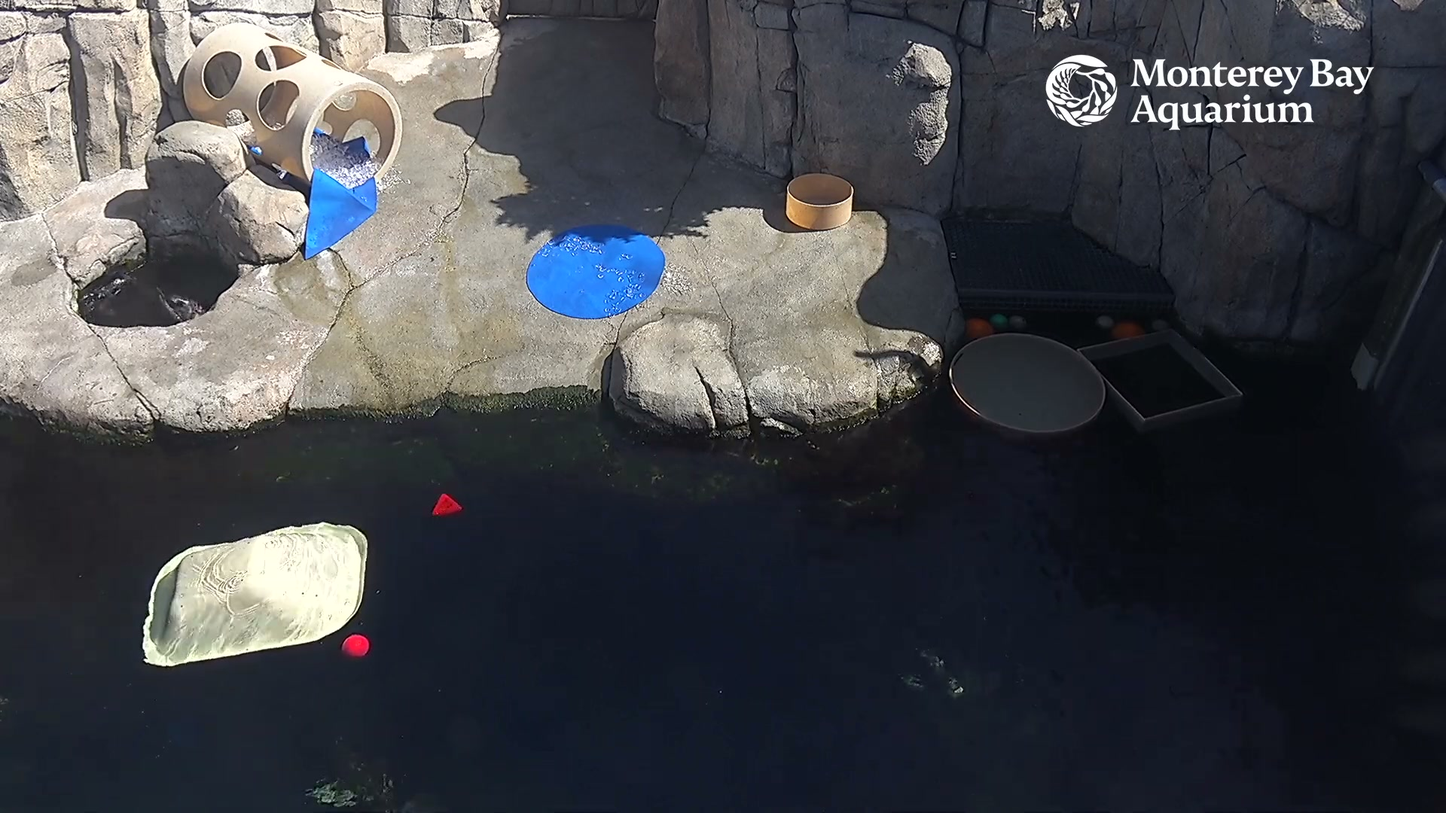Southern Sea Otter: (100, 259, 214, 336)
